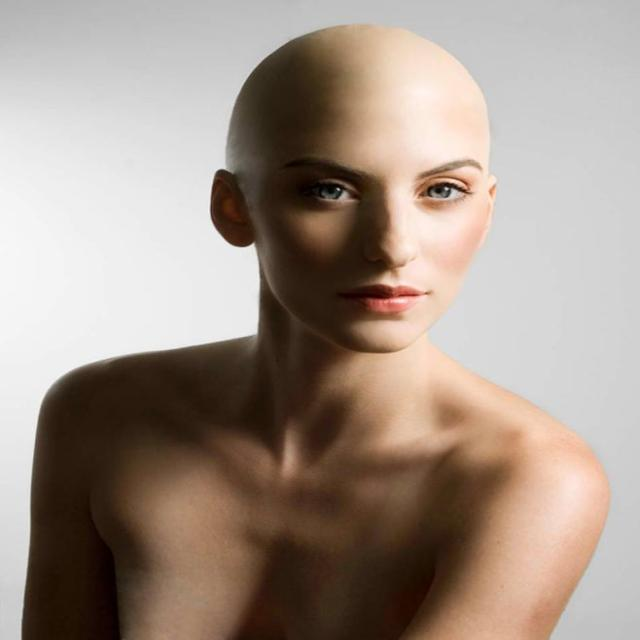no_helmet: (187, 12, 518, 188)
